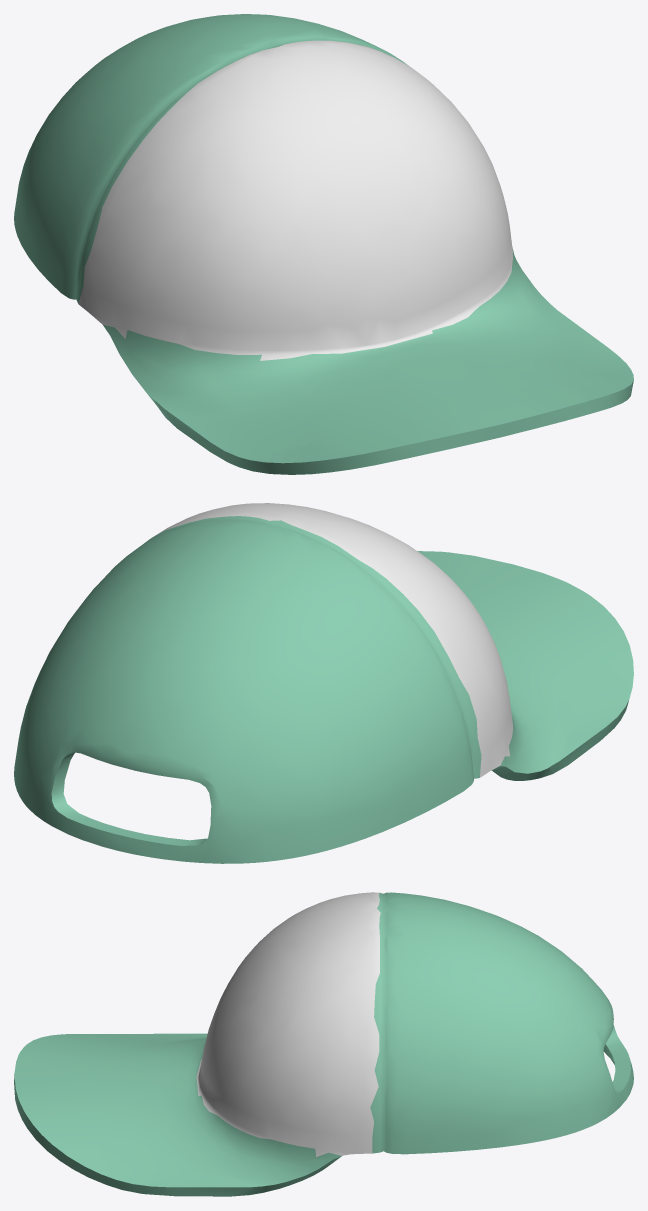
File: headwear-cap-green-white-d21c5110.glb
The picture shows the model from 3 angles, top to bottom: view 1: azimuth 30°, elevation 25°; view 2: azimuth 150°, elevation 25°; view 3: azimuth 270°, elevation 25°; orthographic projection. The views are drawn at different scales.
Parts seen in each view (by area): view 1: Geo_White_Old_Male_Cap_Green_White.001; view 2: Geo_White_Old_Male_Cap_Green_White.001; view 3: Geo_White_Old_Male_Cap_Green_White.001.
Part boxes in pixels (box(x1,y1,x2,y2)): Geo_White_Old_Male_Cap_Green_White.001: box(14, 14, 633, 474); Geo_White_Old_Male_Cap_Green_White.001: box(14, 503, 633, 863); Geo_White_Old_Male_Cap_Green_White.001: box(14, 892, 633, 1196).
Size of the model in its own units: 1.49 by 0.9407 by 2.5.
